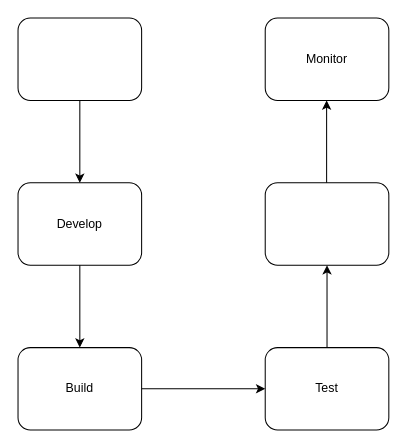
The diagram is 407 pixels wide and 448 high, and some of its shapes have lost their labels. The box of each missing label's shape, as (x1, y1, x2, y2) in pixels:
Deploy: (264, 182, 389, 265)
Plan: (17, 17, 142, 100)
